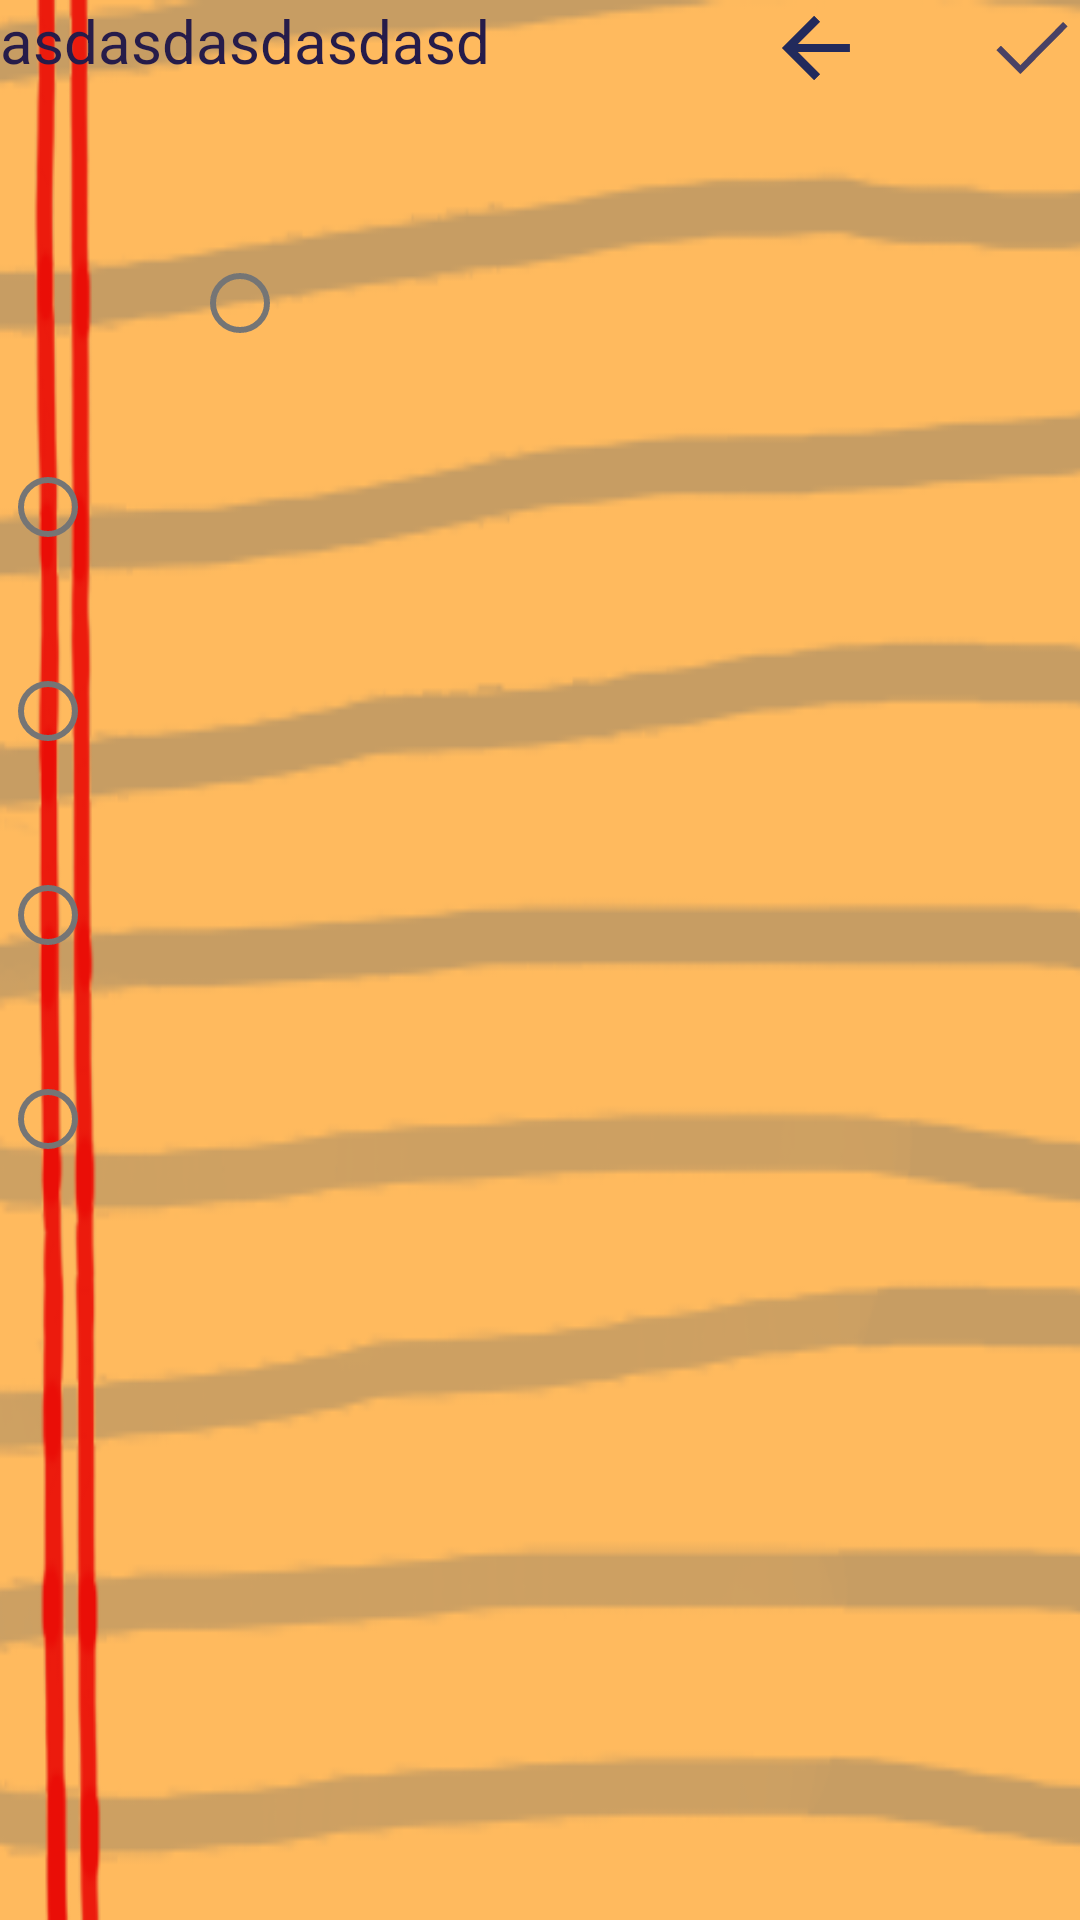

Screen size 1080px x 1920px. Icon name, then its box in pixels as (left=x1, top=y1, right=x2, bottom=y2):
accept: (left=989, top=0, right=1080, bottom=74)
back: (left=782, top=16, right=850, bottom=80)
